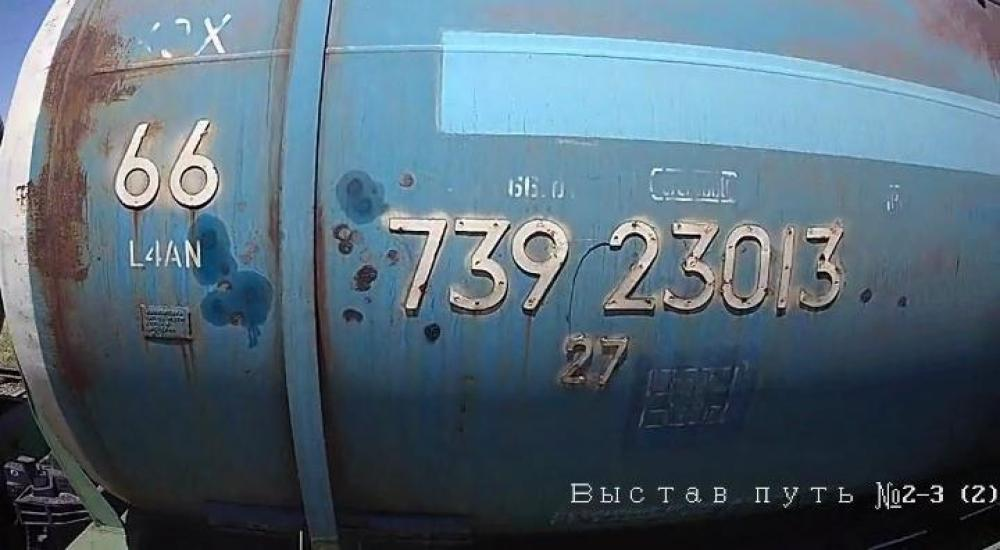Wagon-number: (382, 211, 849, 323)
